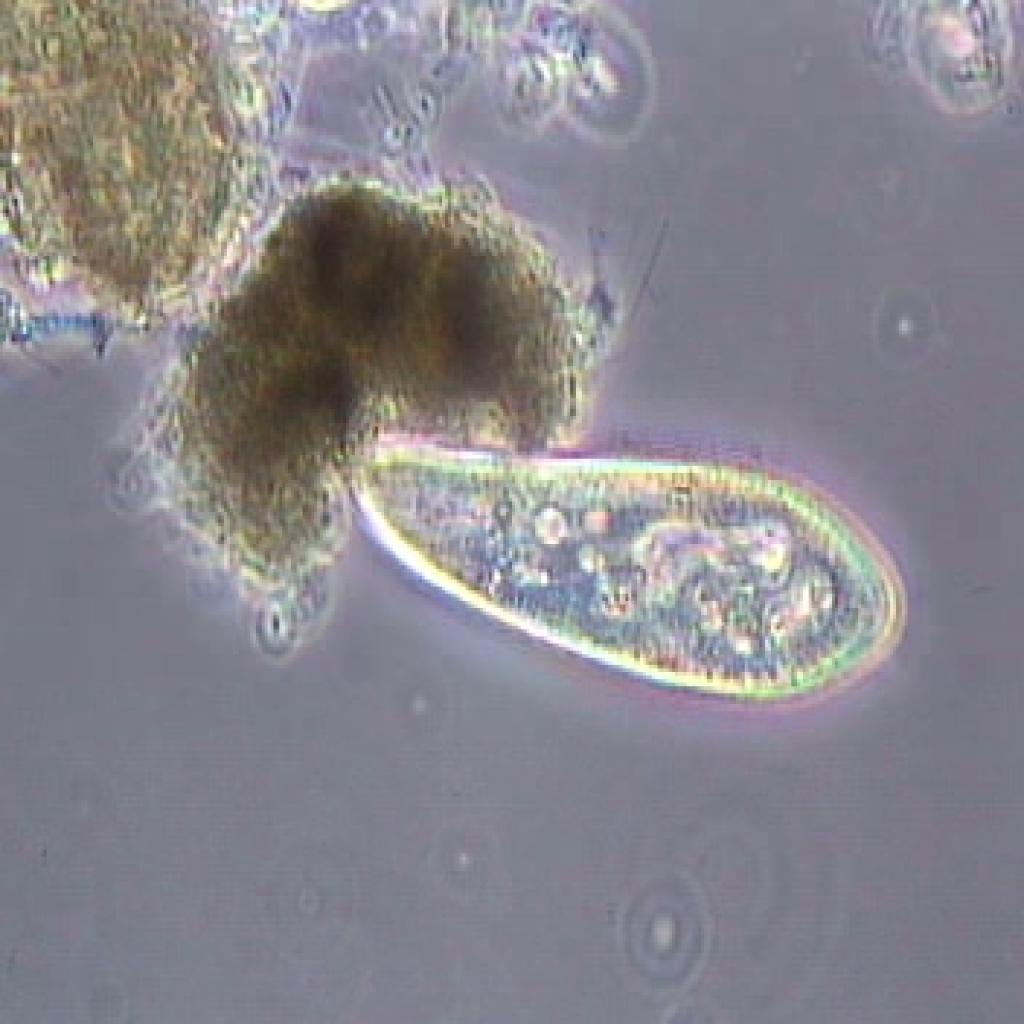Paramecium: (333, 412, 956, 732)
